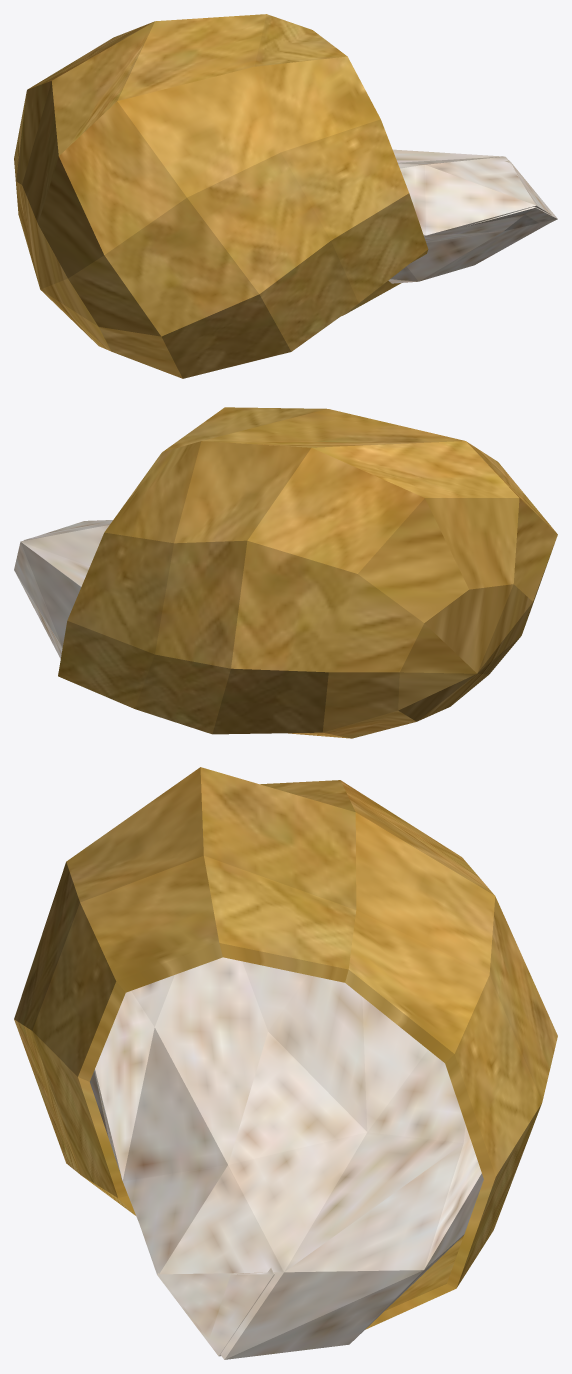
Rendered from toppled_rice.fbx.
3 views of the same model, one above another, from view 1: azimuth 30°, elevation 25°; view 2: azimuth 150°, elevation 25°; view 3: azimuth 270°, elevation 25° (orthographic). The views are drawn at different scales.
Parts seen in each view (by area): view 1: Toppled Rice sack; view 2: Toppled Rice sack; view 3: Toppled Rice sack.
Boxes of the visible parts, <box> form: Toppled Rice sack: <box>14,14,557,378</box>; Toppled Rice sack: <box>14,407,557,738</box>; Toppled Rice sack: <box>14,767,557,1359</box>.
Bounding box in the file's own units: 2.84 × 1.99 × 1.57.
Materials: 2 (2 with a texture image).
